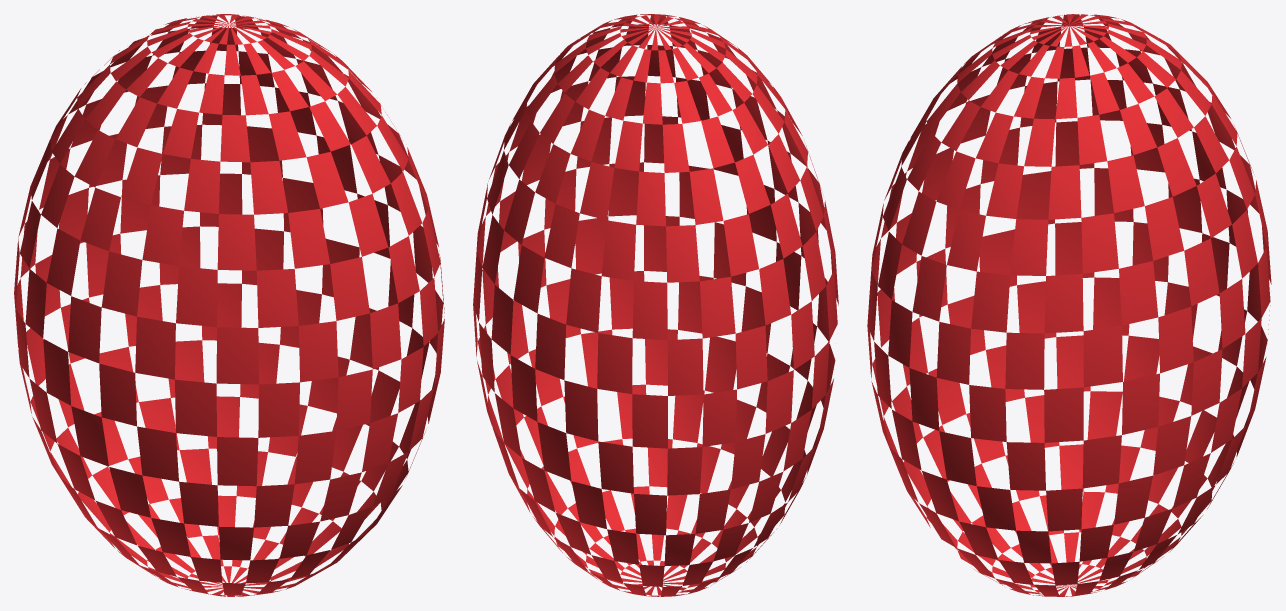
The model's file is redEGG_C2.glb.
The picture shows the model from 3 angles, left to right: view 1: azimuth 30°, elevation 25°; view 2: azimuth 150°, elevation 25°; view 3: azimuth 270°, elevation 25°; orthographic projection.
Visible parts, largest first — view 1: egg1_2; view 2: egg1_2; view 3: egg1_2.
Boxes of the visible parts, x1,y1,x2,y2 form: egg1_2: [14, 14, 444, 596]; egg1_2: [473, 14, 838, 596]; egg1_2: [867, 14, 1271, 596].
Size of the model in its own units: 2.18 by 3.38 by 2.21.
